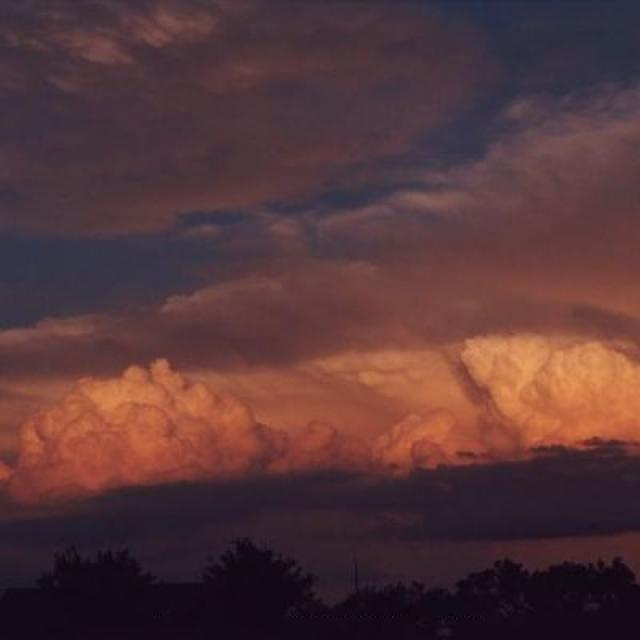Cu: (5, 68, 640, 461)
